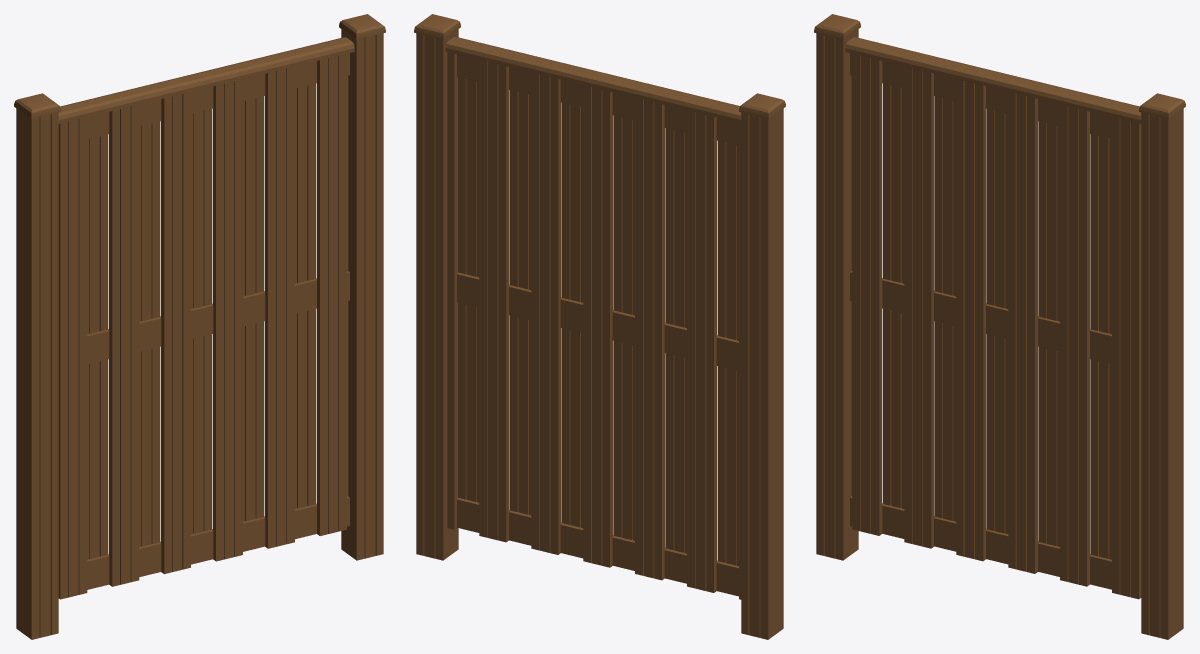
File: Fence.FBX
3 views of the same model, side by side, from view 1: azimuth 30°, elevation 25°; view 2: azimuth 150°, elevation 25°; view 3: azimuth 330°, elevation 25° (orthographic).
Visible parts, largest first — view 1: Box731, Box732, Box734, Box733, Box735, Box737, Box738, Box736, Box743, Box742, Box740, Box744 (+8 smaller); view 2: Box731, Box732, Box742, Box741, Box743, Box744, Box740, Box737, Box736, Box735, Box738, Box734 (+9 smaller); view 3: Box732, Box731, Box733, Box737, Box734, Box736, Box735, Box738, Box741, Box742, Box743, Box740 (+8 smaller).
Boxes of the visible parts, bbox=[...] form: Box731: bbox=[16, 108, 58, 639]; Box732: bbox=[341, 29, 383, 560]; Box734: bbox=[109, 104, 139, 586]; Box733: bbox=[58, 117, 87, 599]; Box735: bbox=[161, 92, 190, 574]; Box737: bbox=[265, 66, 294, 548]; Box738: bbox=[317, 54, 346, 535]; Box736: bbox=[213, 79, 242, 561]; Box743: bbox=[243, 96, 264, 521]; Box742: bbox=[191, 109, 212, 534]; Box740: bbox=[87, 134, 108, 559]; Box744: bbox=[295, 83, 316, 509]; Box731: bbox=[741, 108, 783, 639]; Box732: bbox=[416, 29, 458, 560]; Box742: bbox=[583, 85, 613, 567]; Box741: bbox=[635, 97, 665, 580]; Box743: bbox=[531, 72, 561, 554]; Box744: bbox=[479, 59, 509, 542]; Box740: bbox=[687, 110, 716, 592]; Box737: bbox=[509, 90, 531, 515]; Box736: bbox=[561, 102, 583, 527]; Box735: bbox=[613, 115, 634, 540]; Box738: bbox=[458, 77, 479, 502]; Box734: bbox=[665, 128, 686, 553]; Box732: bbox=[1141, 108, 1183, 639]; Box731: bbox=[816, 29, 858, 560]; Box733: bbox=[852, 53, 882, 535]; Box737: bbox=[1060, 104, 1090, 586]; Box734: bbox=[904, 66, 934, 548]; Box736: bbox=[1008, 91, 1038, 573]; Box735: bbox=[956, 79, 986, 561]; Box738: bbox=[1112, 117, 1141, 599]; Box741: bbox=[934, 96, 956, 521]; Box742: bbox=[986, 108, 1008, 534]; Box743: bbox=[1038, 121, 1059, 546]; Box740: bbox=[883, 83, 904, 508].
Bounding box in the file's own units: 132 × 188 × 11.
